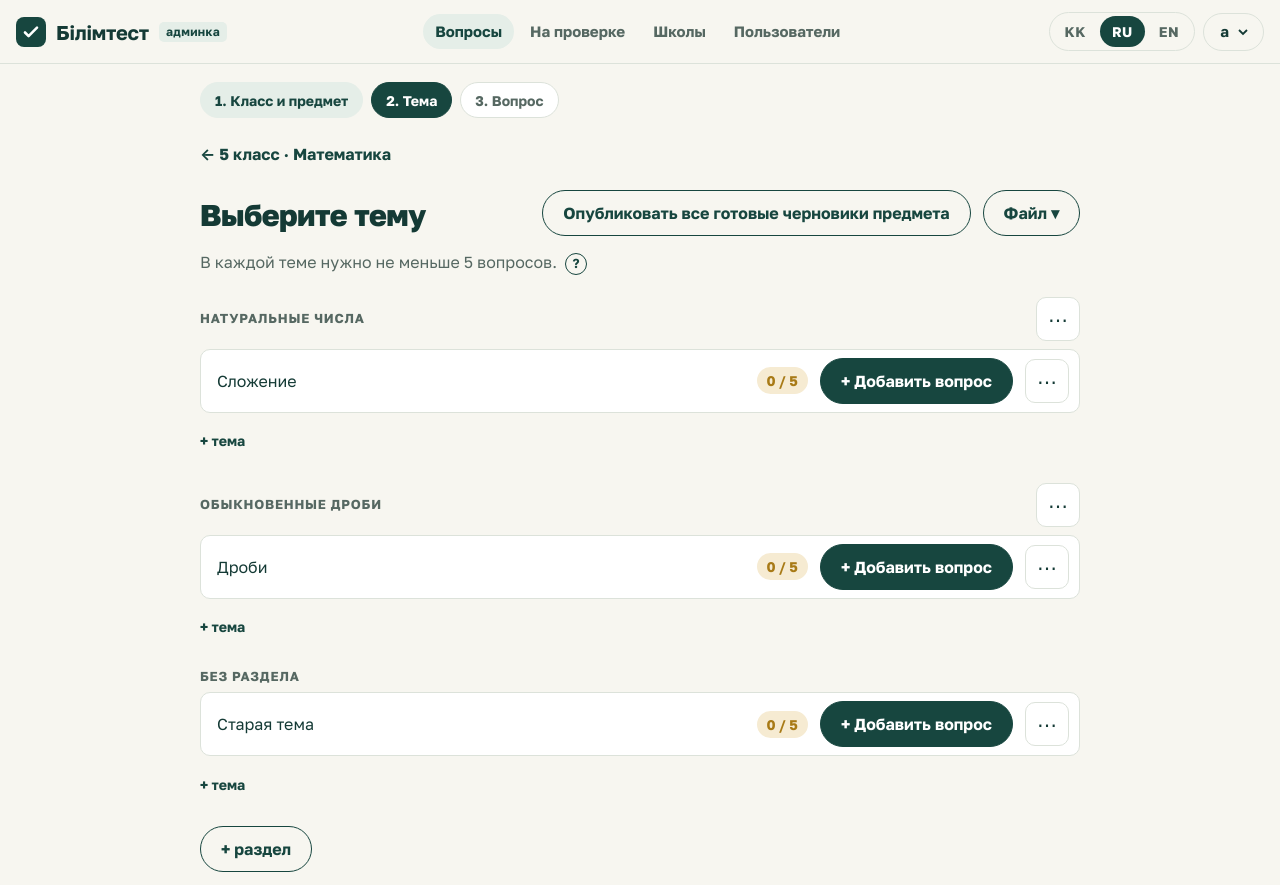
Test: админка › шаг 2 «Тақырып»: у админа кнопка «Опубликовать все готовые черновики предмета»
The image size is (1280, 885).
What coordinates should you click on to do the following:
click the button "Опубликовать все готовые черновики предмета"
I would click on:
 (756, 213)
Its box is [542,190,970,236].
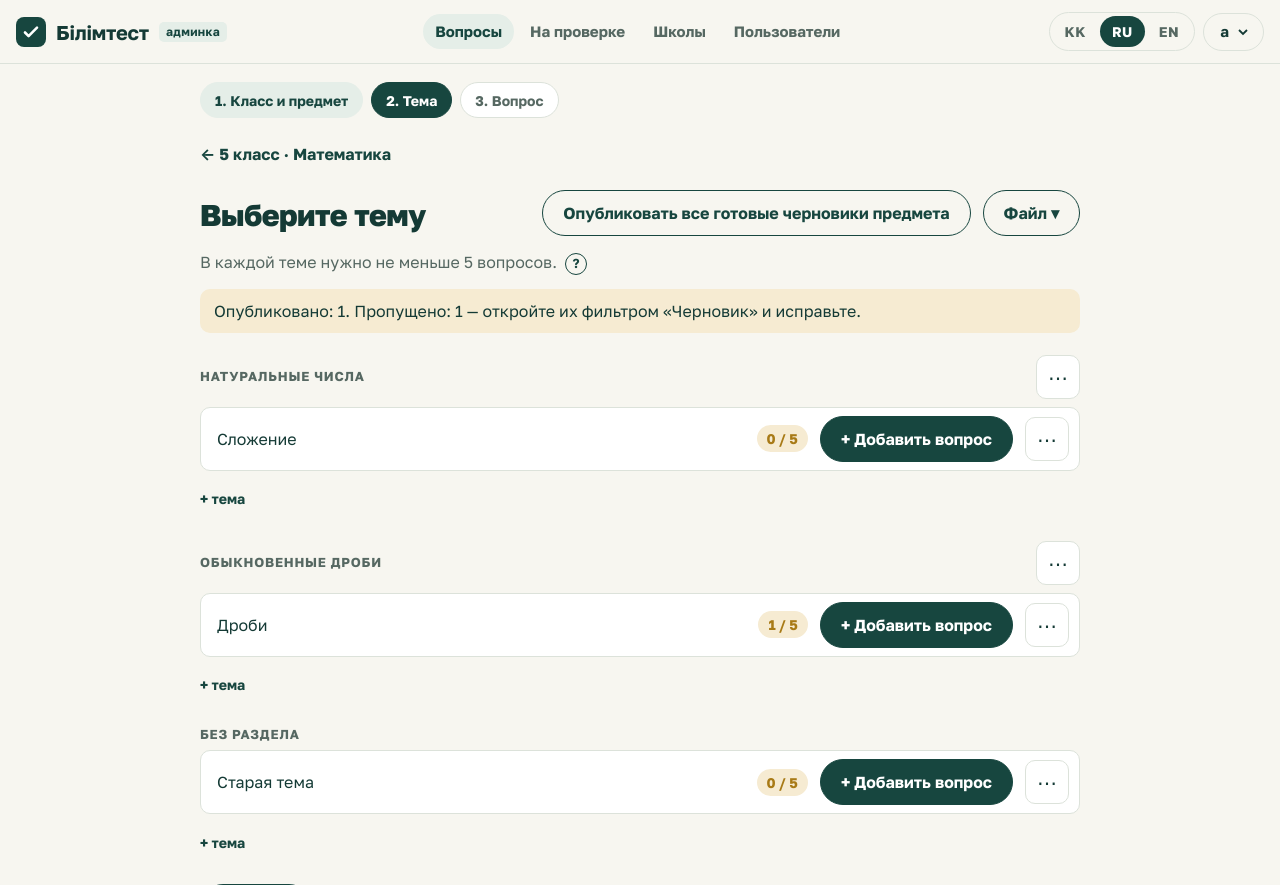
expect the text "Опубликовано: 1. Пропущено: 1 — откройте их фильтром «Черновик» и исправьте." is shown: met, box [200,289,1080,333]
